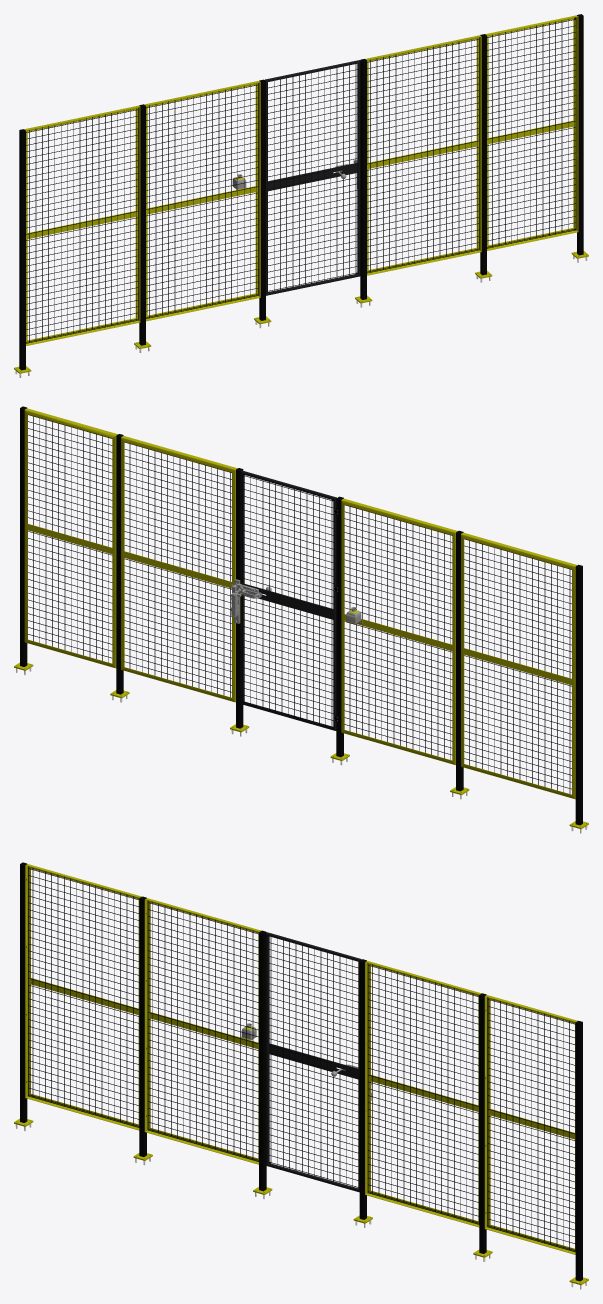
Rendered from VMS_Mesh_Remake1.FBX.
3 views of the same model, one above another, from view 1: azimuth 30°, elevation 25°; view 2: azimuth 150°, elevation 25°; view 3: azimuth 330°, elevation 25° (orthographic). The views are drawn at different scales.
Parts seen in each view (by area): view 1: VMS_Mesh_Remake1; view 2: VMS_Mesh_Remake1; view 3: VMS_Mesh_Remake1.
Boxes of the visible parts, bbox=[...] form: VMS_Mesh_Remake1: bbox=[14, 14, 588, 377]; VMS_Mesh_Remake1: bbox=[14, 406, 588, 833]; VMS_Mesh_Remake1: bbox=[14, 862, 588, 1289].
Size of the model in its own units: 341 by 30.79 by 145.
